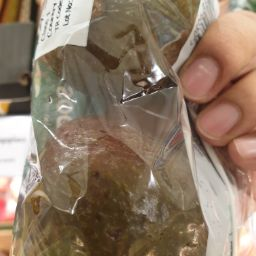Avocado: (96, 4, 181, 256)
